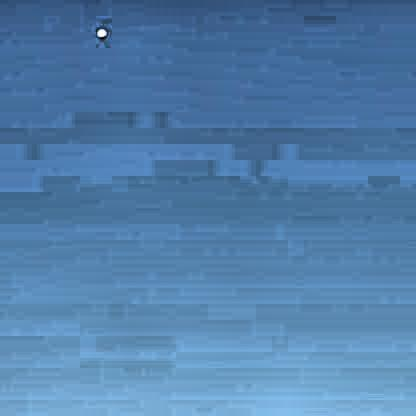golfball: (92, 25, 106, 37)
